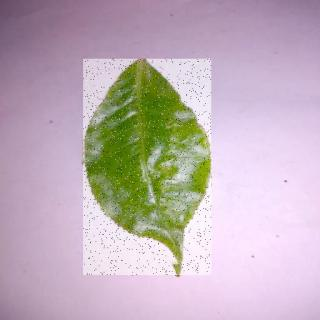Bird Eye Spot: (85, 61, 213, 278)
